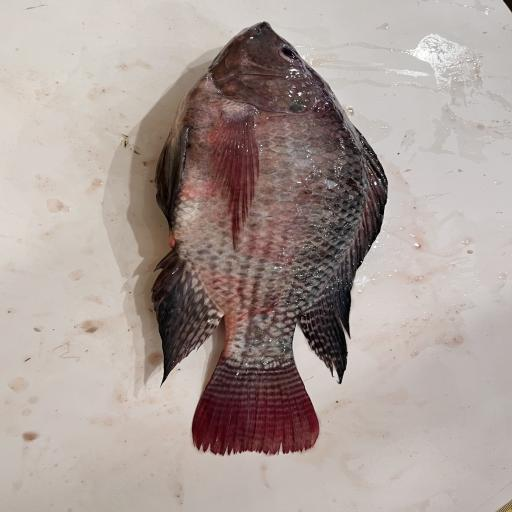Tilapia: (152, 21, 387, 456)
